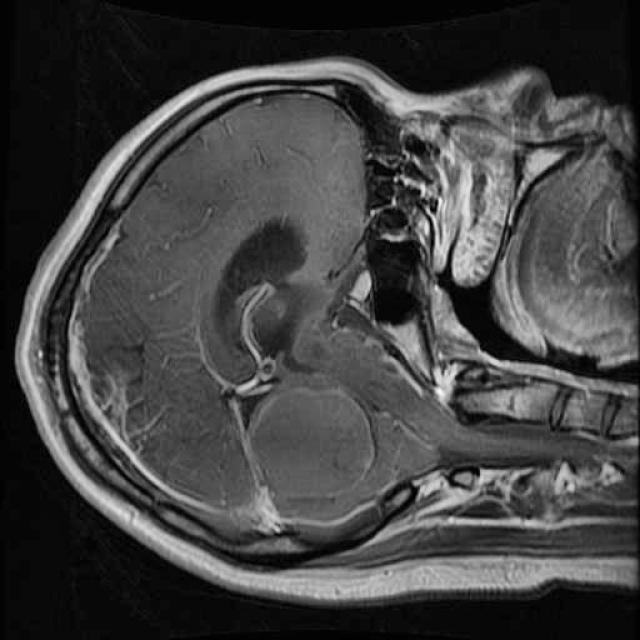Non-Tumor: (230, 351, 401, 552)
